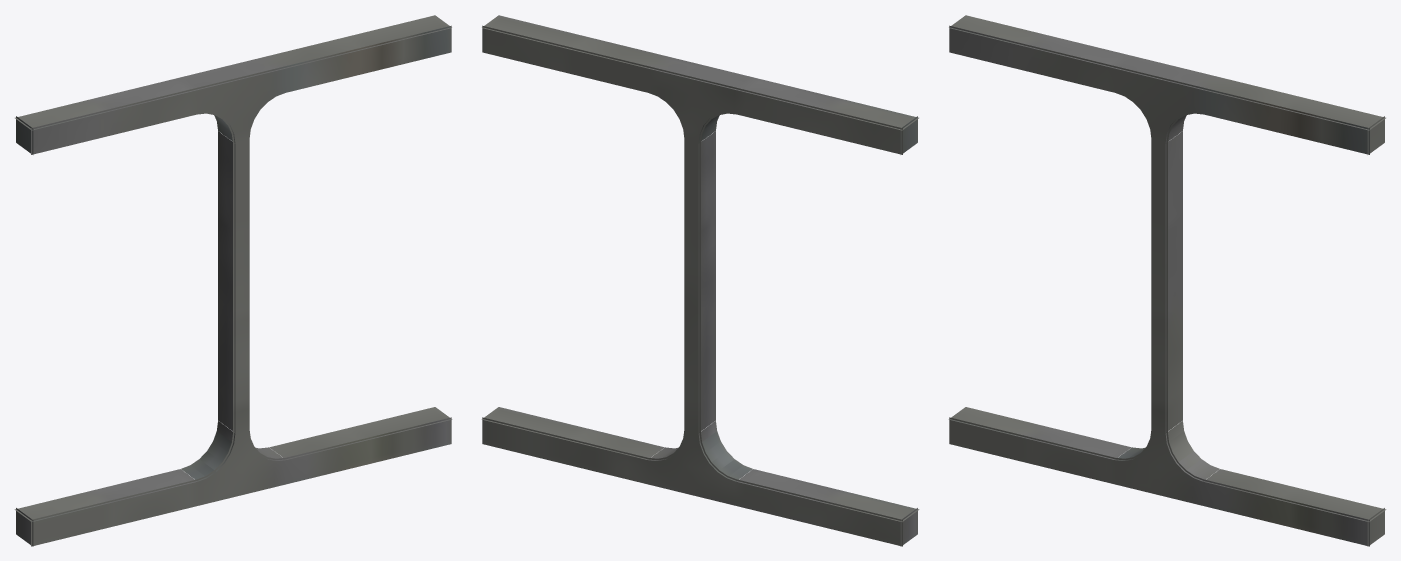
Rendered from HEA140.glb.
The picture shows the model from 3 angles, left to right: view 1: azimuth 30°, elevation 25°; view 2: azimuth 150°, elevation 25°; view 3: azimuth 330°, elevation 25°; orthographic projection.
Size of the model in its own units: 14 by 13.3 by 1.
Materials: 1 (1 with a texture image).
